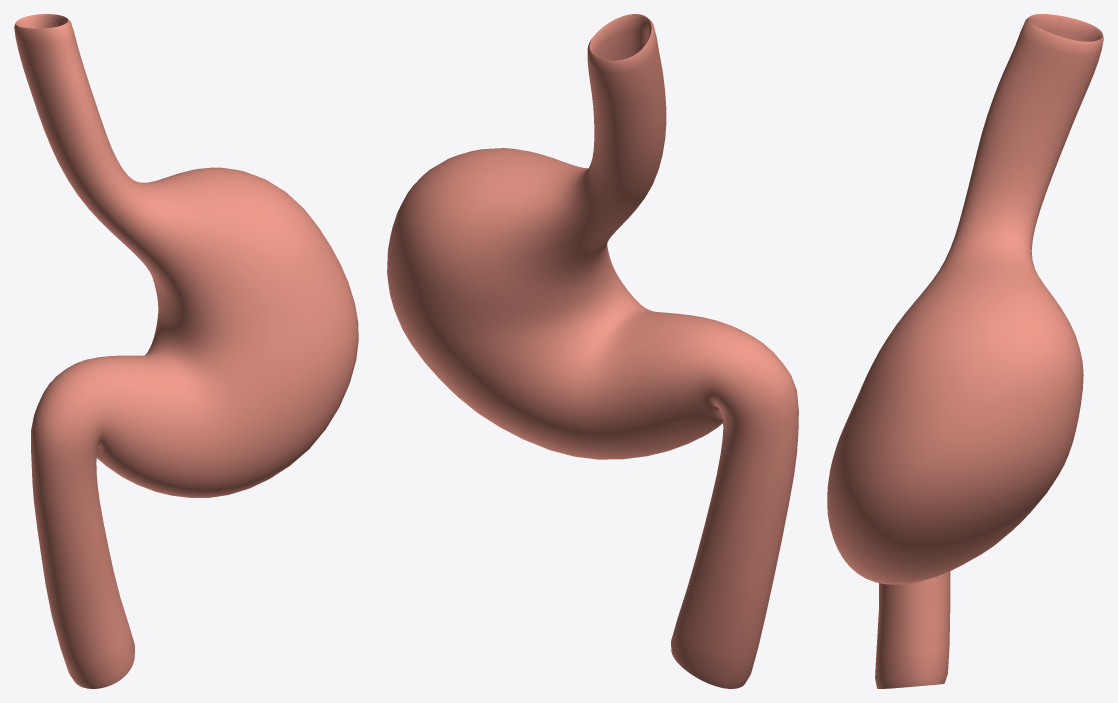
File: stomach.glb
The picture shows the model from 3 angles, left to right: view 1: azimuth 30°, elevation 25°; view 2: azimuth 150°, elevation 25°; view 3: azimuth 270°, elevation 25°; orthographic projection. The views are drawn at different scales.
Visible parts, largest first — view 1: Stomach; view 2: Stomach; view 3: Stomach.
Boxes of the visible parts, left/top/right/bottom form: Stomach: left=14, top=14, right=358, bottom=688; Stomach: left=387, top=14, right=798, bottom=688; Stomach: left=827, top=14, right=1103, bottom=688.
Size of the model in its own units: 2.28 by 4.15 by 1.52.
